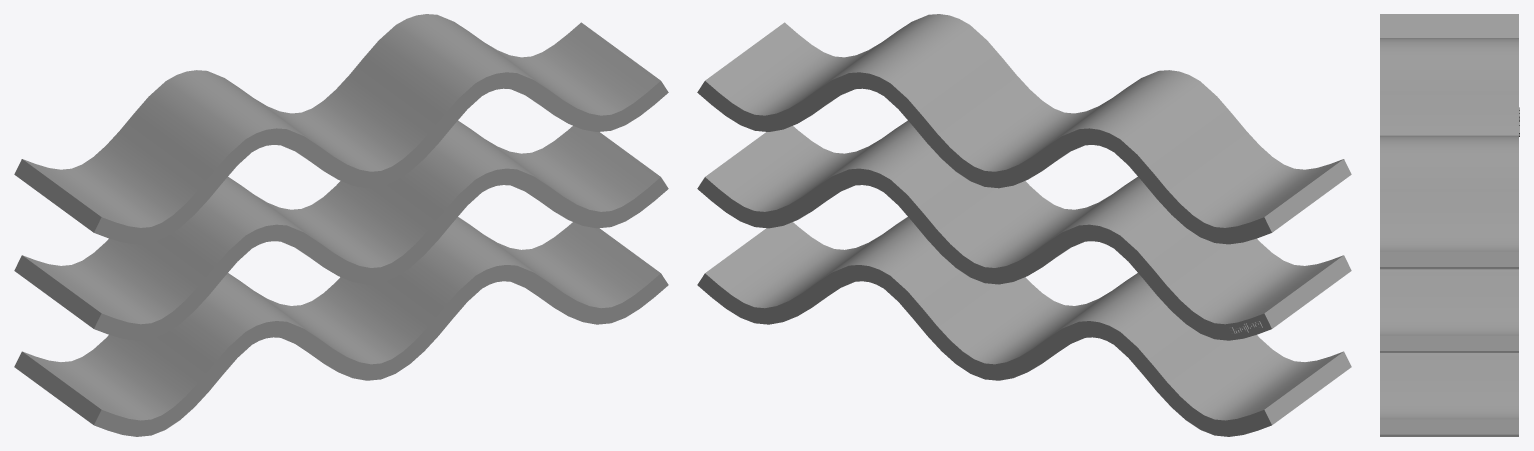
Rendered from fog.fbx.
3 views of the same model, side by side, from view 1: azimuth 30°, elevation 25°; view 2: azimuth 150°, elevation 25°; view 3: azimuth 270°, elevation 25° (orthographic). The views are drawn at different scales.
Parts seen in each view (by area): view 1: Plane.188; view 2: Plane.188; view 3: Plane.188.
Boxes of the visible parts, bbox=[...] form: Plane.188: bbox=[14, 14, 668, 436]; Plane.188: bbox=[697, 14, 1351, 436]; Plane.188: bbox=[1380, 14, 1519, 436].
Bounding box in the file's own units: 225 × 104 × 54.38.
Materials: 1 (1 with a texture image).
